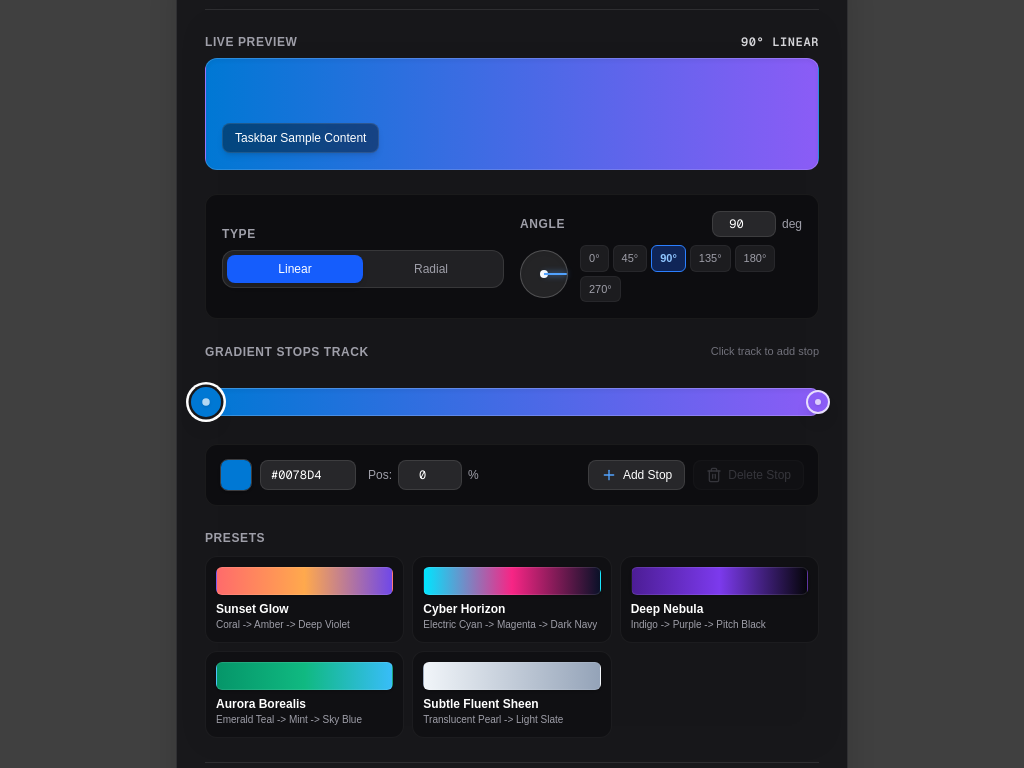
it: GradientEditorModal › selects a stop when clicking its pin
Step 1. Click the slider named "stop" → [818, 402], box x1=806 y1=390 x2=830 y2=414
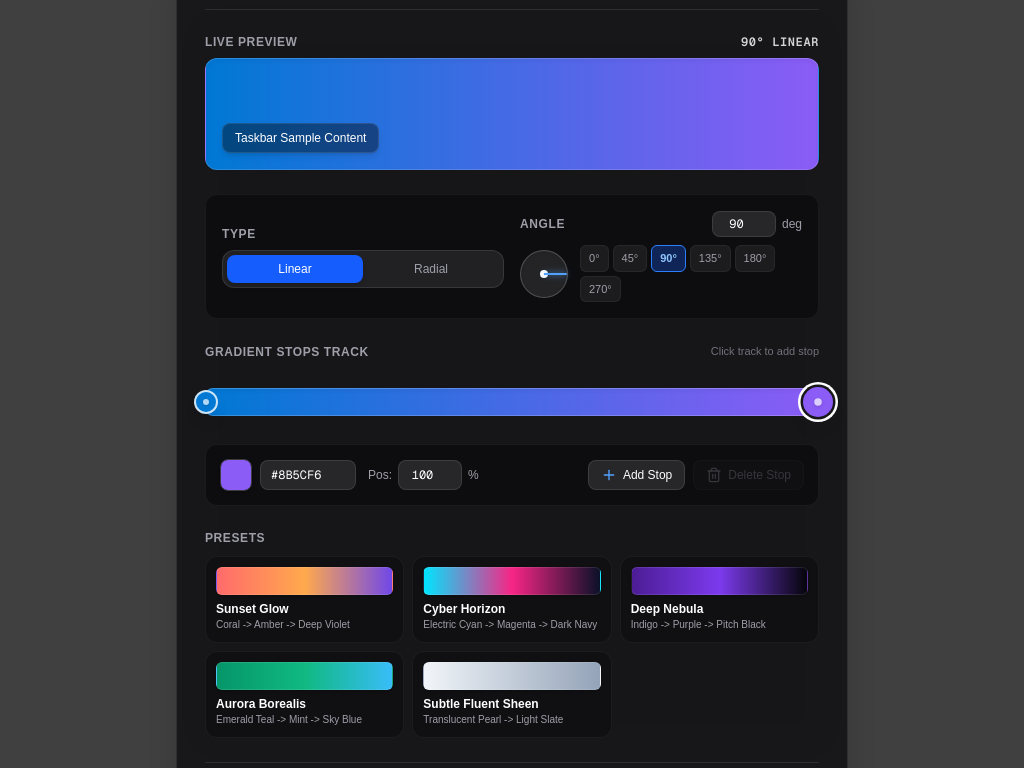
Result: the field named "stop color hex" holds "#8B5CF6" at x1=260 y1=460 x2=356 y2=490
